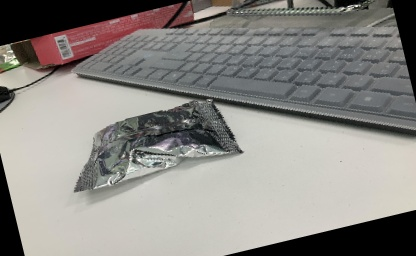br: (59, 89, 247, 199)
